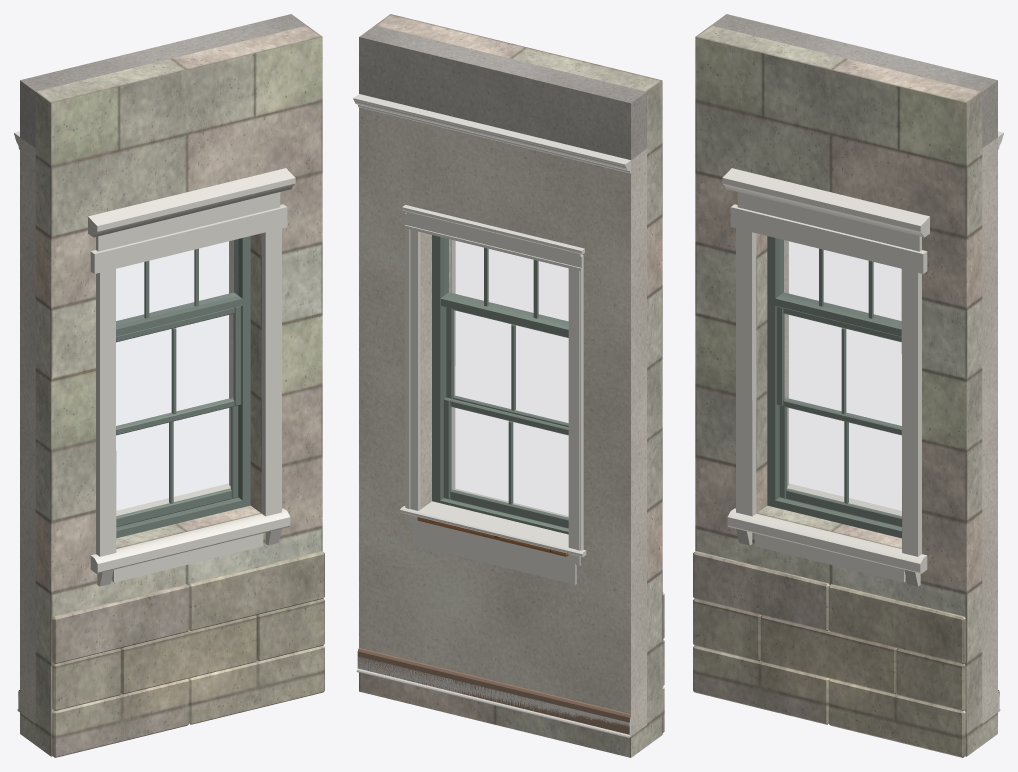
File: w_win.glb
The picture shows the model from 3 angles, left to right: view 1: azimuth 30°, elevation 25°; view 2: azimuth 150°, elevation 25°; view 3: azimuth 330°, elevation 25°; orthographic projection.
Parts seen in each view (by area): view 1: w_win_stone, w_win_stone_r, w_win_trim, w_win_glass, w_win_plaster, folha_glass, w_win_frame, w_win_concrete, w_win_sash, folha_sash, molduras; view 2: w_win_plaster, w_win_concrete, w_win_stone, molduras, w_win_glass, w_win_trim, folha_glass, w_win_frame, w_win_base, folha_sash, w_win_sash, w_win_oak; view 3: w_win_stone, w_win_stone_r, w_win_trim, w_win_glass, w_win_plaster, folha_glass, w_win_frame, w_win_concrete, w_win_sash, folha_sash, molduras.
Part boxes in pixels (x1,y1,x2,y2): w_win_stone: (20, 25, 322, 756); w_win_stone_r: (52, 551, 324, 757); w_win_trim: (88, 168, 295, 586); w_win_glass: (116, 240, 237, 427); w_win_plaster: (20, 137, 233, 723); folha_glass: (116, 408, 230, 515); w_win_frame: (116, 236, 250, 538); w_win_concrete: (20, 14, 306, 148); w_win_sash: (116, 306, 241, 435); folha_sash: (116, 397, 238, 526); molduras: (14, 131, 230, 712); w_win_plaster: (359, 107, 646, 736); w_win_concrete: (359, 25, 646, 159); w_win_stone: (359, 14, 662, 757); molduras: (353, 94, 630, 738); w_win_glass: (445, 239, 567, 422); w_win_trim: (405, 213, 583, 584); folha_glass: (451, 407, 567, 517); w_win_frame: (432, 235, 568, 534); w_win_base: (357, 648, 630, 734); folha_sash: (443, 396, 568, 528); w_win_sash: (446, 307, 568, 424); w_win_oak: (417, 517, 568, 556); w_win_stone: (695, 25, 997, 756); w_win_stone_r: (693, 551, 965, 757); w_win_trim: (722, 168, 929, 586); w_win_glass: (780, 240, 901, 427); w_win_plaster: (784, 137, 997, 723); folha_glass: (787, 408, 901, 516); w_win_frame: (767, 236, 901, 538); w_win_concrete: (711, 14, 997, 148); w_win_sash: (776, 306, 901, 435); folha_sash: (779, 397, 901, 527); molduras: (787, 131, 1003, 712).
Size of the model in its own units: 2 by 4.6 by 0.595.
10 materials, 5 textured.
